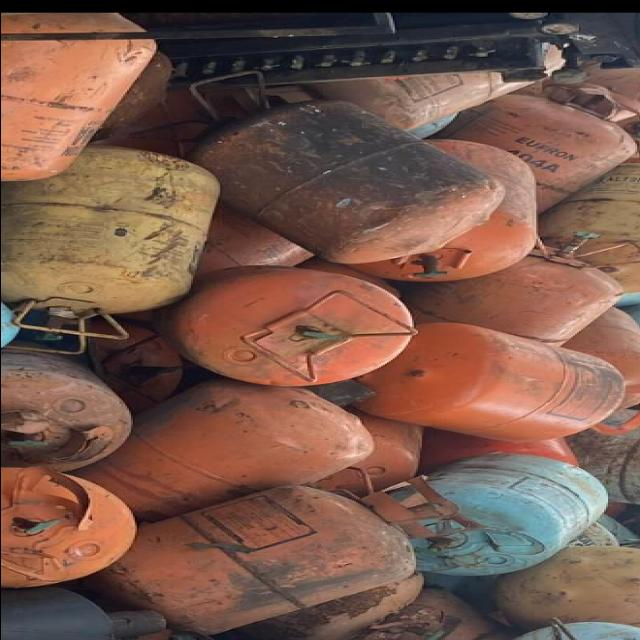cylinder: (99, 475, 483, 637), (4, 147, 219, 357), (359, 322, 640, 442), (176, 266, 416, 386)
